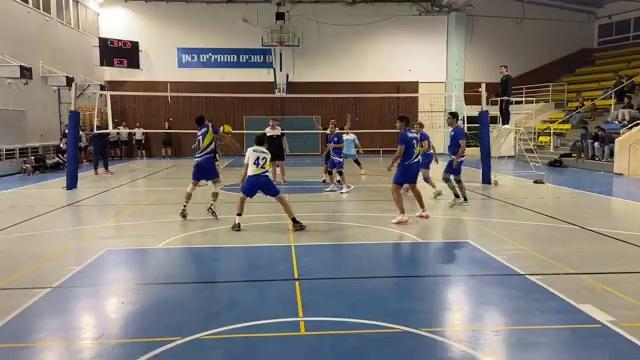ball: (217, 123, 237, 138)
